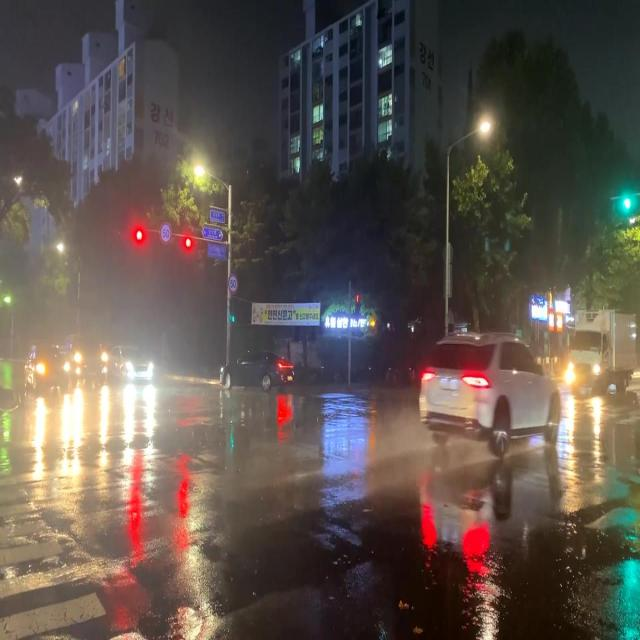Car: (417, 328, 560, 462), (218, 347, 295, 384), (25, 343, 70, 387), (69, 336, 107, 381)
